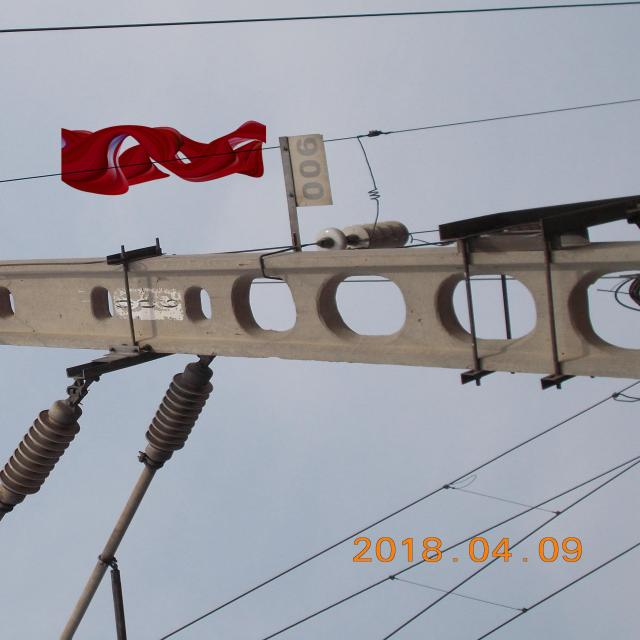floating object: (52, 121, 267, 197)
